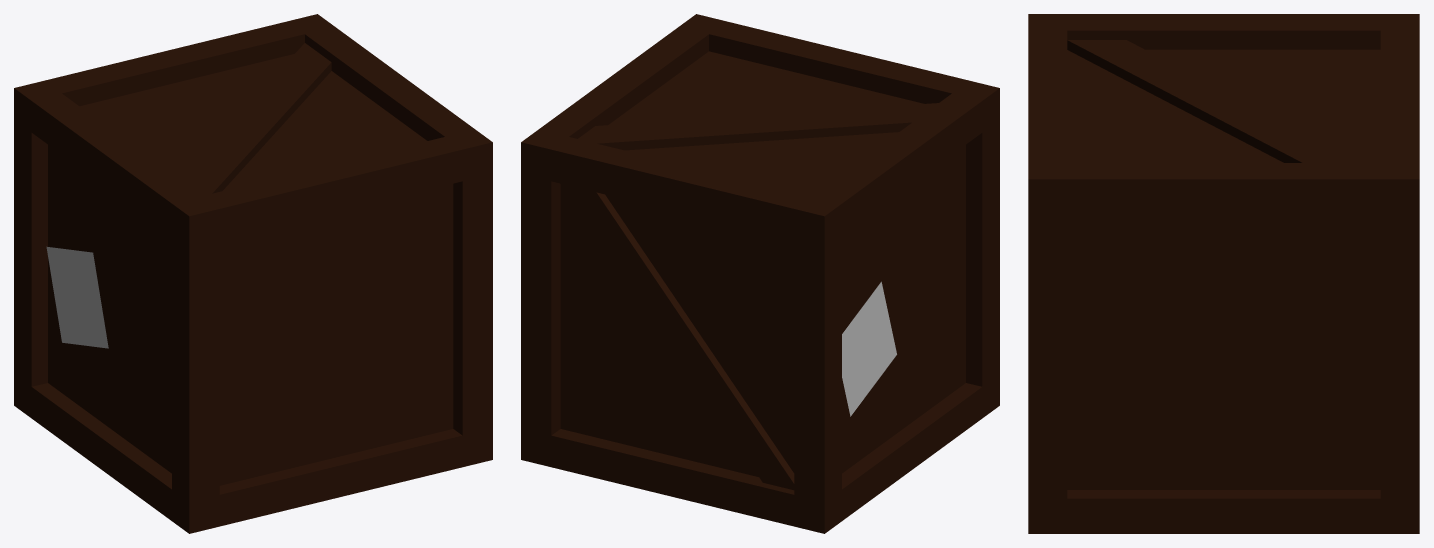
File: create.fbx
The picture shows the model from 3 angles, left to right: view 1: azimuth 30°, elevation 25°; view 2: azimuth 150°, elevation 25°; view 3: azimuth 270°, elevation 25°; orthographic projection. The views are drawn at different scales.
Parts seen in each view (by area): view 1: create; view 2: create; view 3: create.
Part boxes in pixels (x1,y1,x2,y2): create: [14, 14, 492, 533]; create: [521, 14, 999, 533]; create: [1028, 14, 1419, 533].
Bounding box in the file's own units: 80 × 80 × 80.
